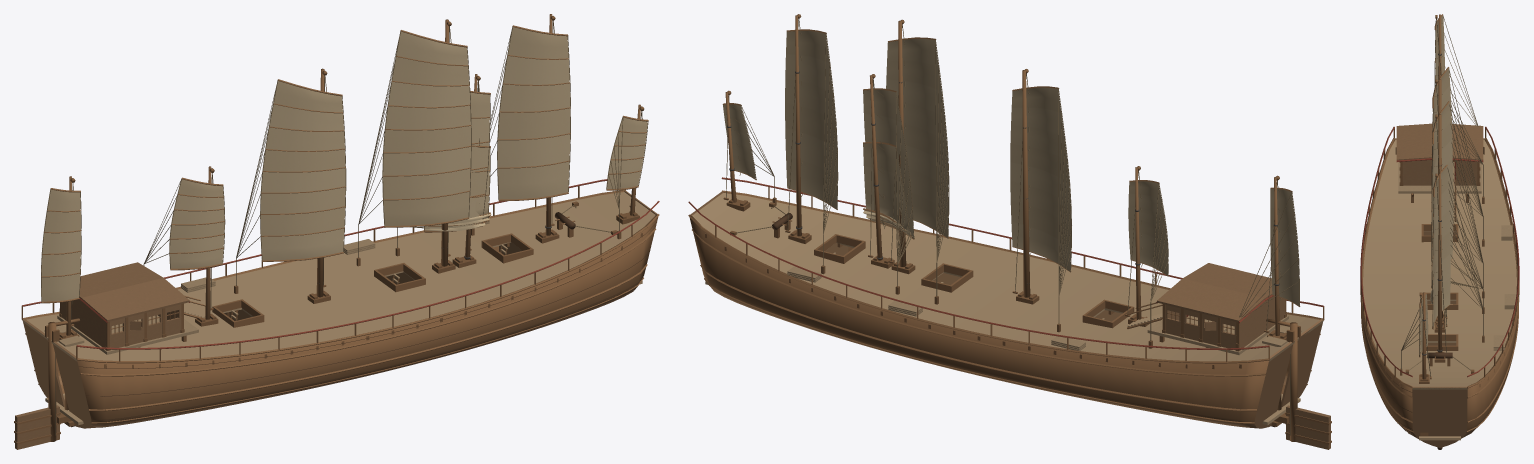
Rendered from liangchuan-full.glb.
3 views of the same model, side by side, from view 1: azimuth 30°, elevation 25°; view 2: azimuth 150°, elevation 25°; view 3: azimuth 270°, elevation 25° (orthographic). The views are drawn at different scales.
Visible parts, largest first — view 1: Starboard planked shell_WEB, Battened sail panels.003_WEB, Battened sail panels.002_WEB, Battened sail panels.004_WEB, Battened sail panels.001_WEB, Cambered upper shelter roof_WEB, Battened sail panels_WEB, Battened sail panels.005_WEB, Battened sail panels.008_WEB, Main deck plank.017_WEB, Main deck plank.021_WEB, Main deck plank.016_WEB (+21 smaller); view 2: Port planked shell_WEB, Battened sail panels.002_WEB, Battened sail panels.003_WEB, Battened sail panels.004_WEB, Cambered upper shelter roof_WEB, Battened sail panels.001_WEB, Battened sail panels_WEB, Battened sail panels.006_WEB, Battened sail panels.005_WEB, Main deck plank.021_WEB, Main deck plank.017_WEB, Main deck plank.016_WEB (+29 smaller); view 3: Cambered upper shelter roof_WEB, Starboard planked shell_WEB, Port planked shell_WEB, Battened sail panels.004_WEB, Bow closure_WEB, Bow closure.002_WEB, Battened sail panels.003_WEB, Main deck plank.018_WEB, Main deck plank.017_WEB, Main deck plank.016_WEB, Main deck plank.008_WEB, Main deck plank.015_WEB (+50 smaller).
Boxes of the visible parts, left/top/right/bottom form: Starboard planked shell_WEB: left=77, top=215, right=658, bottom=428; Battened sail panels.003_WEB: left=382, top=30, right=470, bottom=225; Battened sail panels.002_WEB: left=260, top=80, right=345, bottom=260; Battened sail panels.004_WEB: left=497, top=26, right=570, bottom=199; Battened sail panels.001_WEB: left=169, top=179, right=224, bottom=268; Cambered upper shelter roof_WEB: left=79, top=262, right=189, bottom=321; Battened sail panels_WEB: left=41, top=188, right=80, bottom=301; Battened sail panels.005_WEB: left=424, top=92, right=490, bottom=230; Battened sail panels.008_WEB: left=606, top=117, right=647, bottom=188; Main deck plank.017_WEB: left=245, top=269, right=353, bottom=339; Main deck plank.021_WEB: left=324, top=254, right=427, bottom=322; Main deck plank.016_WEB: left=228, top=273, right=334, bottom=342; Port planked shell_WEB: left=690, top=215, right=1268, bottom=428; Battened sail panels.002_WEB: left=1010, top=87, right=1071, bottom=271; Battened sail panels.003_WEB: left=886, top=39, right=948, bottom=237; Battened sail panels.004_WEB: left=785, top=30, right=837, bottom=209; Cambered upper shelter roof_WEB: left=1157, top=263, right=1272, bottom=322; Battened sail panels.001_WEB: left=1128, top=181, right=1167, bottom=275; Battened sail panels_WEB: left=1270, top=189, right=1299, bottom=306; Battened sail panels.006_WEB: left=863, top=143, right=910, bottom=236; Battened sail panels.005_WEB: left=863, top=89, right=913, bottom=238; Main deck plank.021_WEB: left=919, top=252, right=1023, bottom=322; Main deck plank.017_WEB: left=993, top=269, right=1100, bottom=339; Main deck plank.016_WEB: left=1012, top=274, right=1118, bottom=342; Cambered upper shelter roof_WEB: left=1396, top=123, right=1483, bottom=160; Starboard planked shell_WEB: left=1362, top=139, right=1421, bottom=440; Port planked shell_WEB: left=1463, top=139, right=1517, bottom=437; Battened sail panels.004_WEB: left=1433, top=166, right=1450, bottom=326; Bow closure_WEB: left=1440, top=386, right=1467, bottom=447; Bow closure.002_WEB: left=1412, top=386, right=1439, bottom=447; Battened sail panels.003_WEB: left=1432, top=102, right=1453, bottom=282; Main deck plank.018_WEB: left=1363, top=266, right=1516, bottom=274; Main deck plank.017_WEB: left=1363, top=258, right=1516, bottom=266; Main deck plank.016_WEB: left=1364, top=250, right=1515, bottom=258; Main deck plank.008_WEB: left=1369, top=216, right=1510, bottom=225; Main deck plank.015_WEB: left=1365, top=242, right=1514, bottom=250.
Bounding box in the file's own units: 45.5 × 22.44 × 11.95.
Materials: 24 (10 with a texture image).
